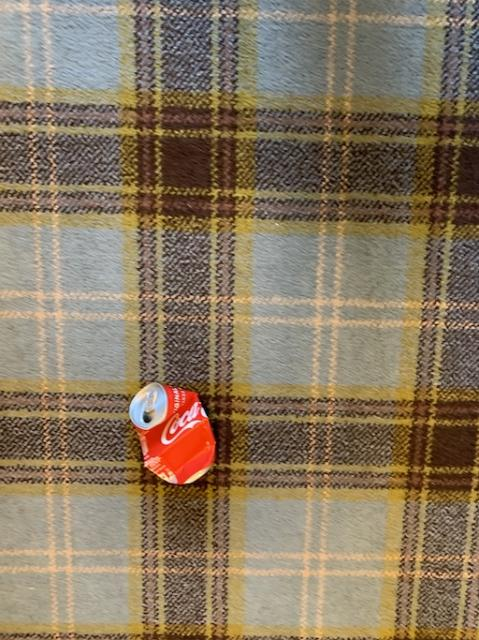metal: (128, 381, 214, 483)
